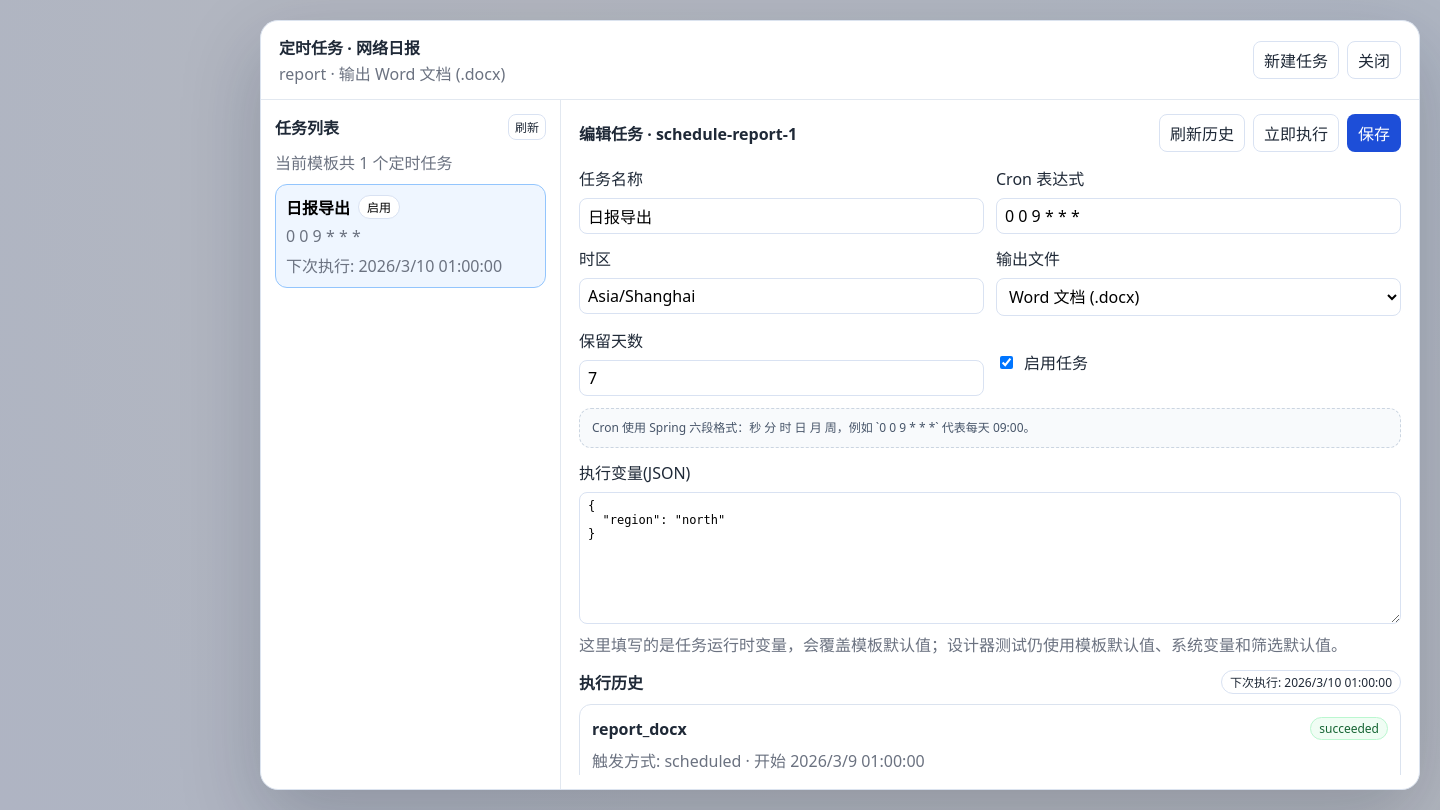
TemplateSchedulePanel › loads schedule history and supports run now
The image size is (1440, 810).
Expected: the text "日报导出" is shown, [286, 195, 350, 219]
Step 1. Click the button "立即执行" → {"x": 1296, "y": 133}, box [1253, 114, 1339, 152]
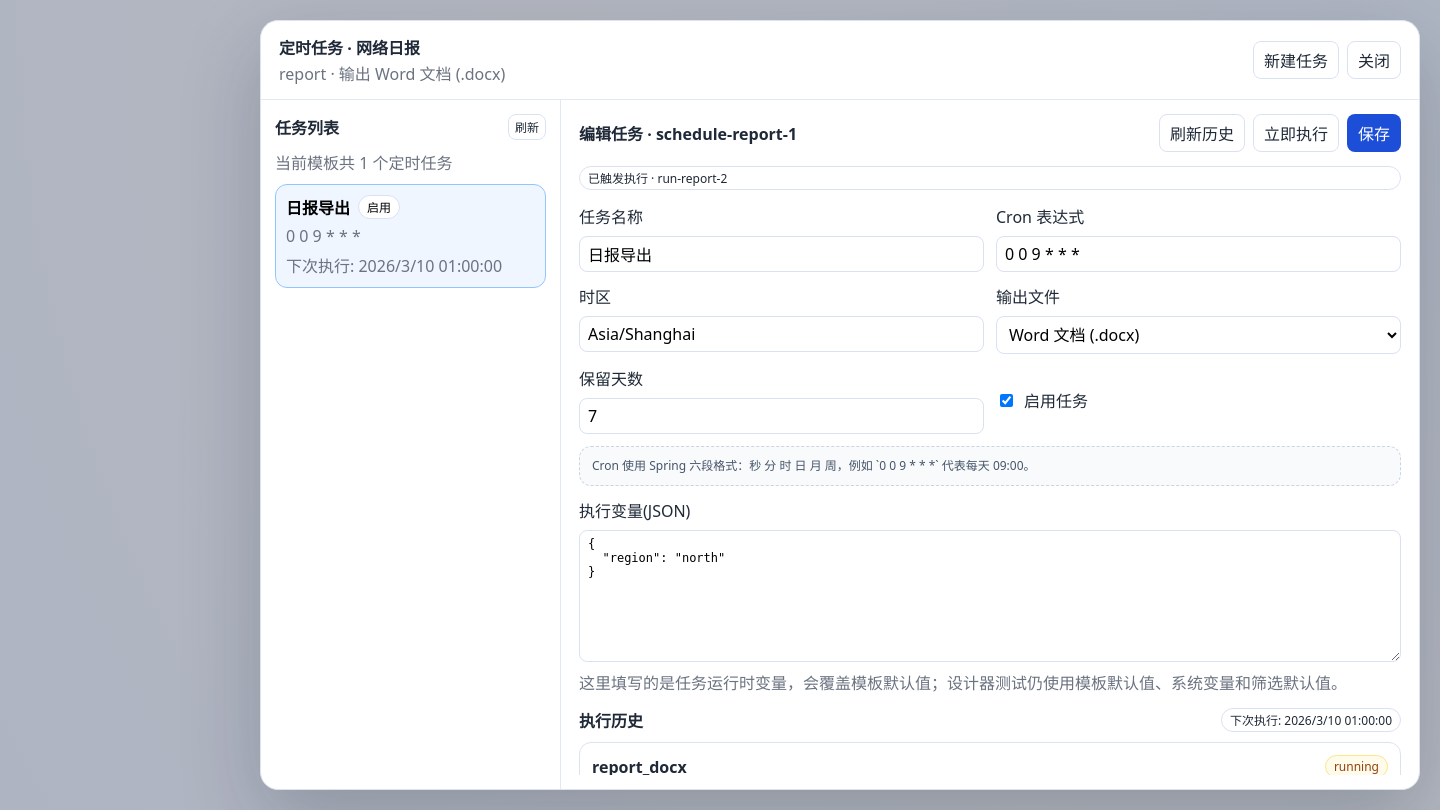
Expected: the text "已触发执行 · run-report-2" is shown, [579, 166, 1401, 190]
